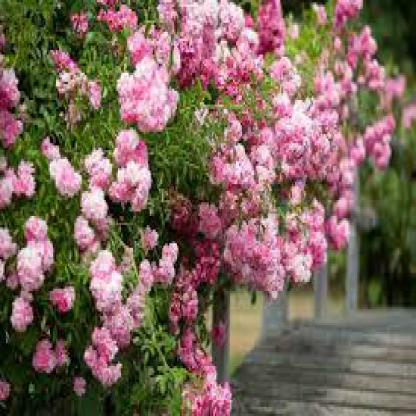Rose-Mawar: (207, 97, 343, 285), (116, 1, 299, 85), (163, 192, 231, 408), (343, 1, 390, 167)
